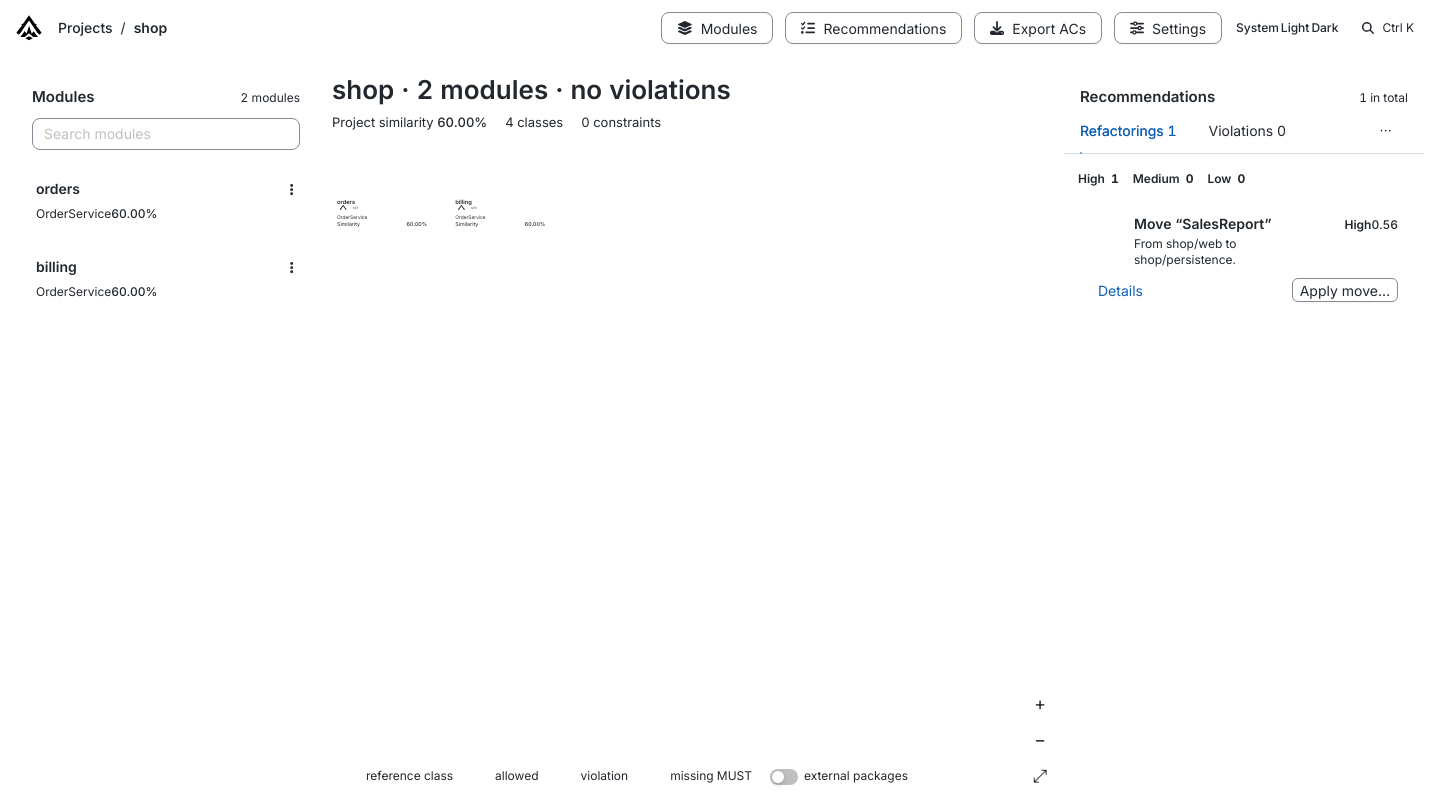
Test: AnalyzePage › after a change made by hand in the modules panel › asks for the recommendations again after a delete
Expected: the button "Apply move…" is shown, [1292,278,1398,302]
What coordinates should you click on to do the following:
click the button named "Actions for billing"
I would click on:
 (292, 268)
Its box is [276,252,308,284].
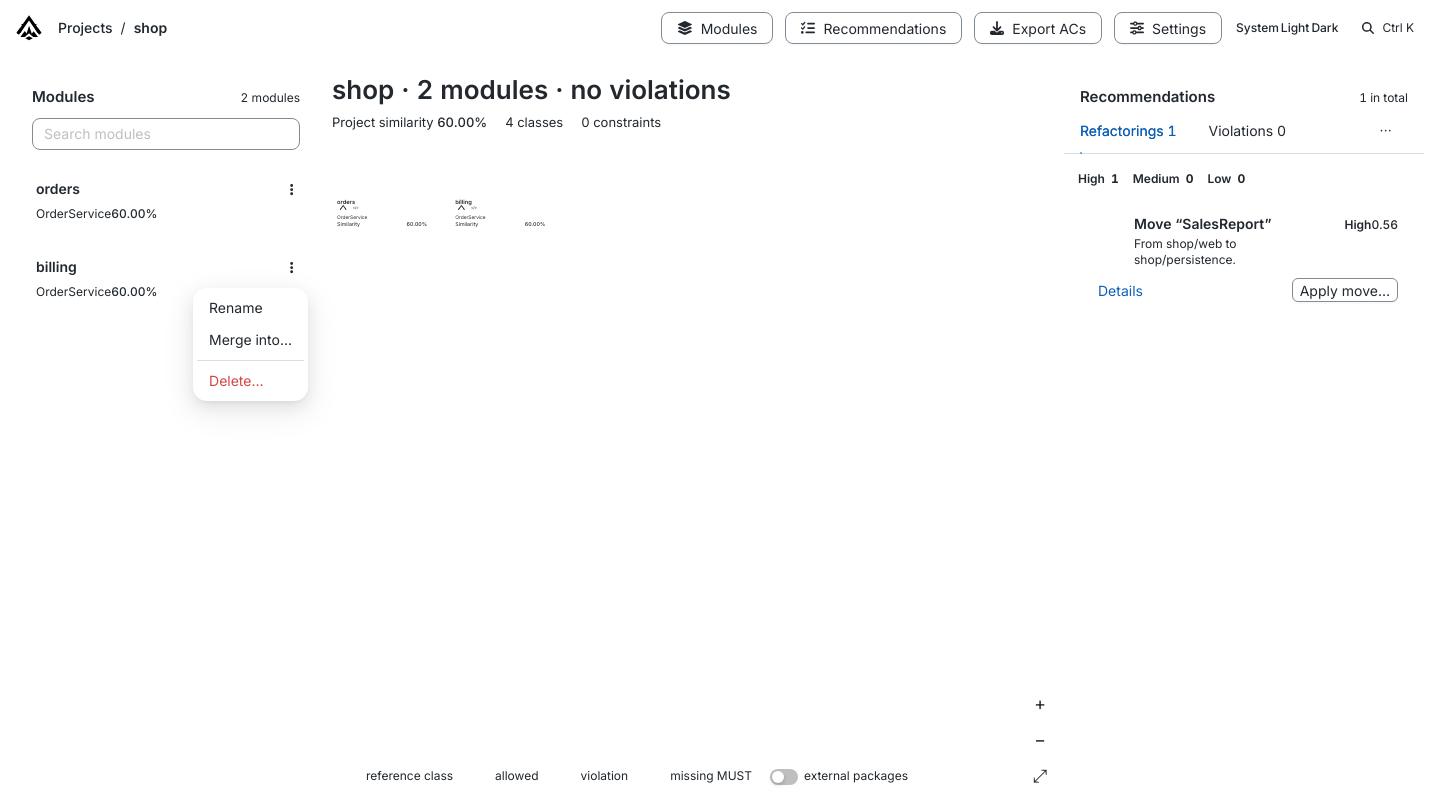
What coordinates should you click on to do the following:
click the menu item "Delete…"
I would click on:
 (236, 380)
Its box is [209,372,264,389].
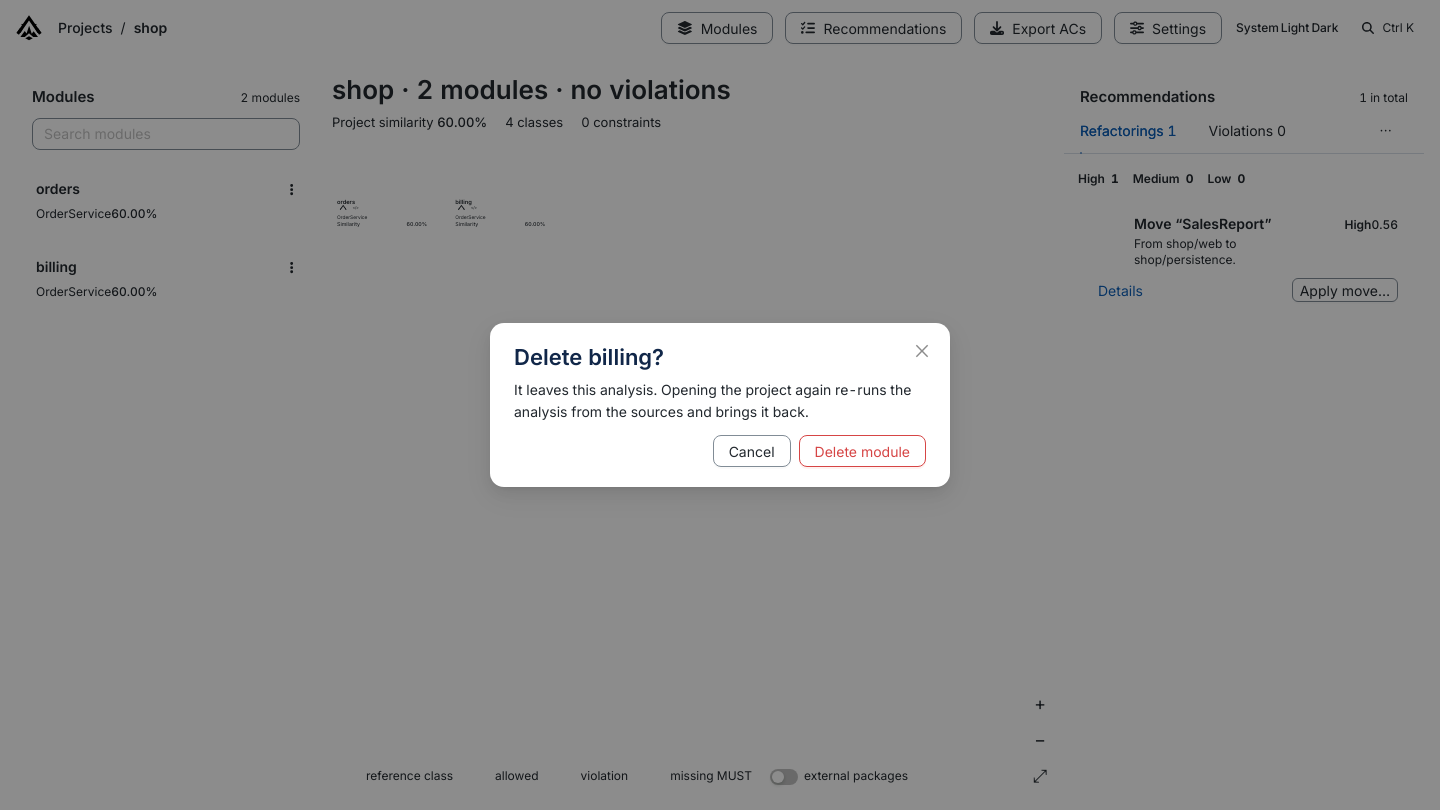
What coordinates should you click on to do the following:
click the button "Delete module"
I would click on:
 (862, 451)
Its box is [799,435,926,467].
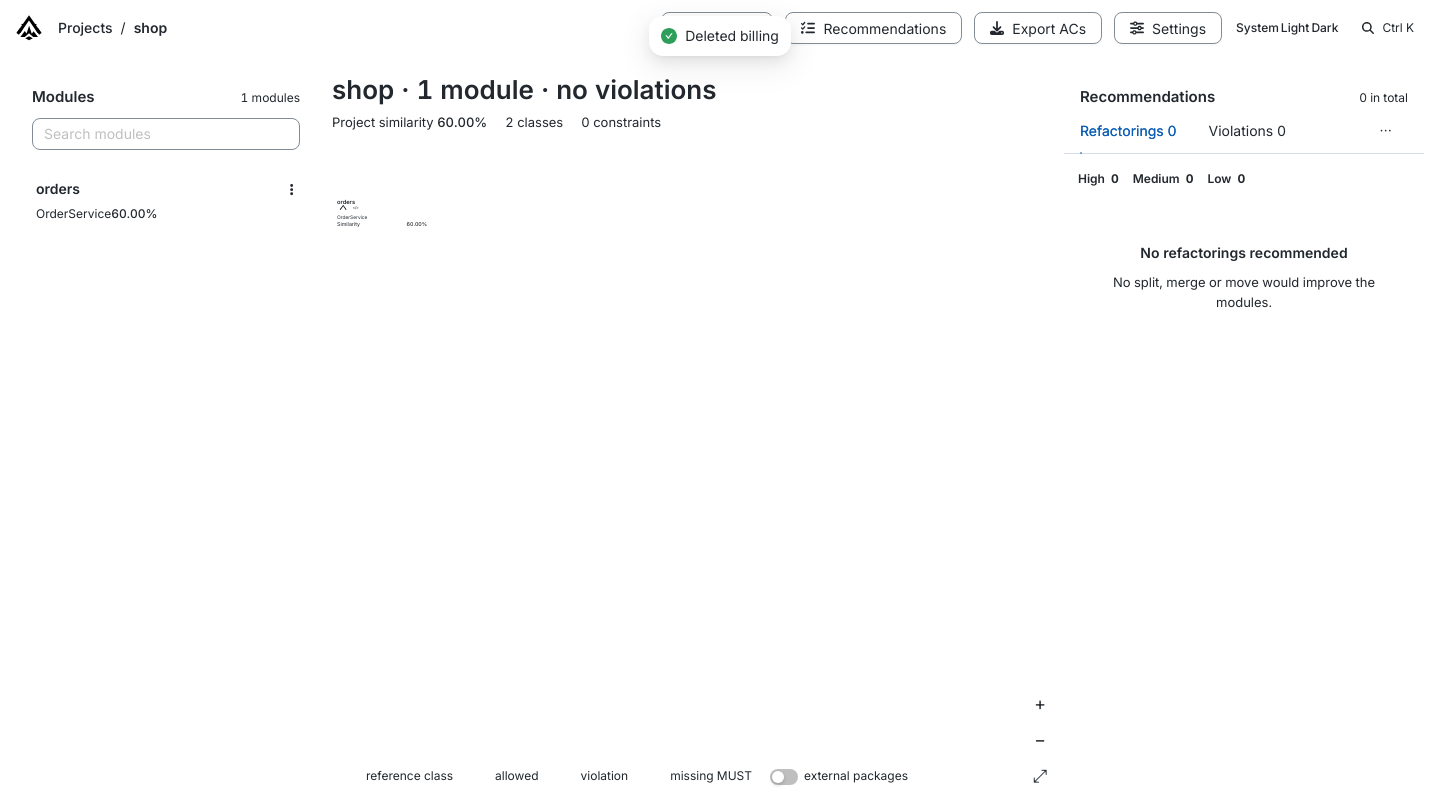
Result: the button "Apply move…" is gone
